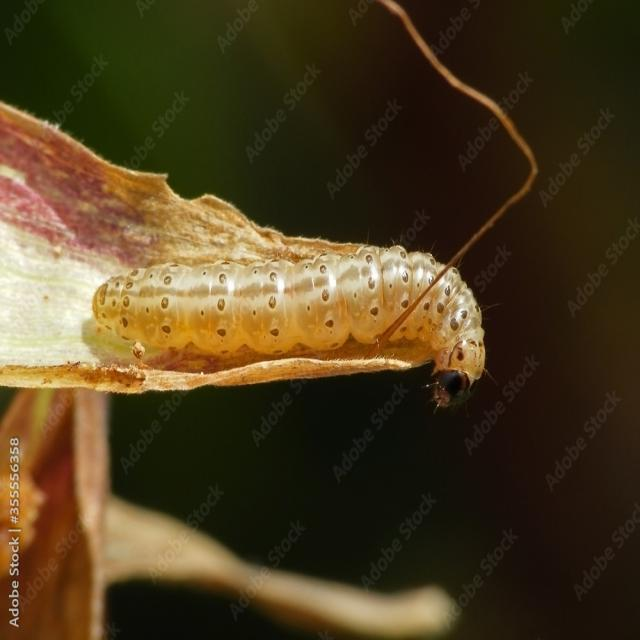cornborer-Larva-: (82, 251, 494, 428)
